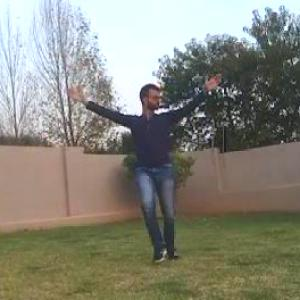takeoff: (67, 52, 235, 264)
